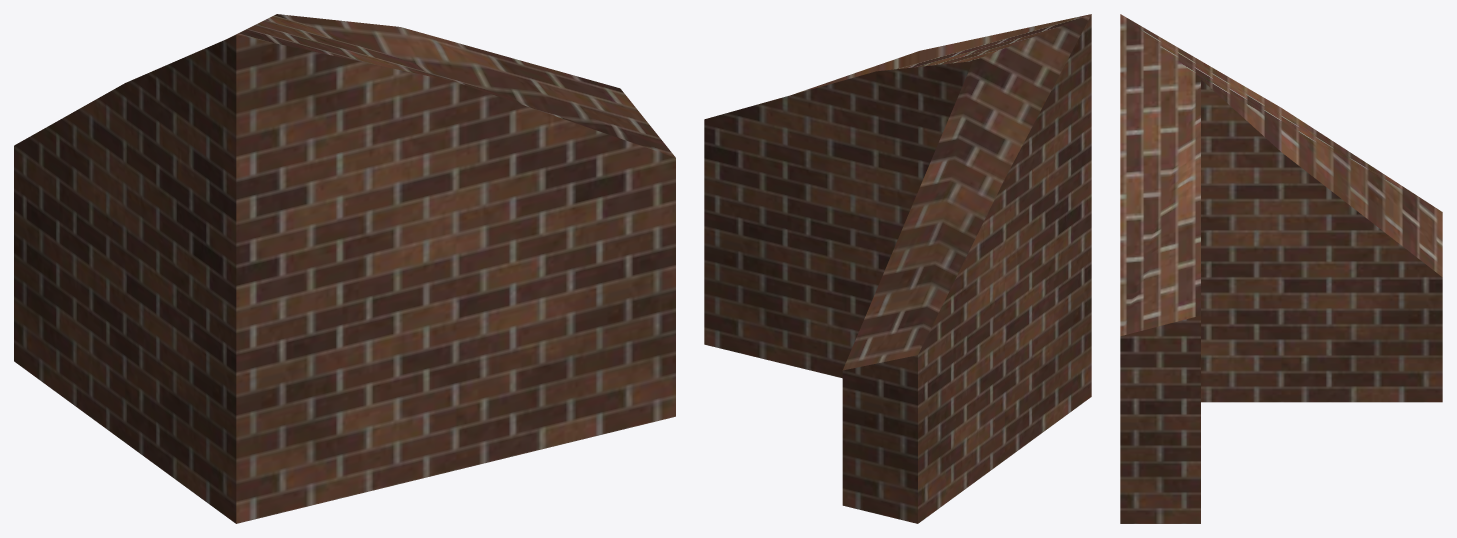
File: debris_nyc_brick_corner.glb
The picture shows the model from 3 angles, left to right: view 1: azimuth 30°, elevation 25°; view 2: azimuth 150°, elevation 25°; view 3: azimuth 270°, elevation 25°; orthographic projection. The views are drawn at different scales.
Visible parts, largest first — view 1: debris_nyc_brick_corner; view 2: debris_nyc_brick_corner; view 3: debris_nyc_brick_corner.
Part boxes in pixels (x1,y1,x2,y2): debris_nyc_brick_corner: [14, 14, 675, 523]; debris_nyc_brick_corner: [704, 14, 1091, 523]; debris_nyc_brick_corner: [1120, 14, 1442, 523].
Size of the model in its own units: 1.6 by 1.7 by 1.4.
1 material, 1 textured.
